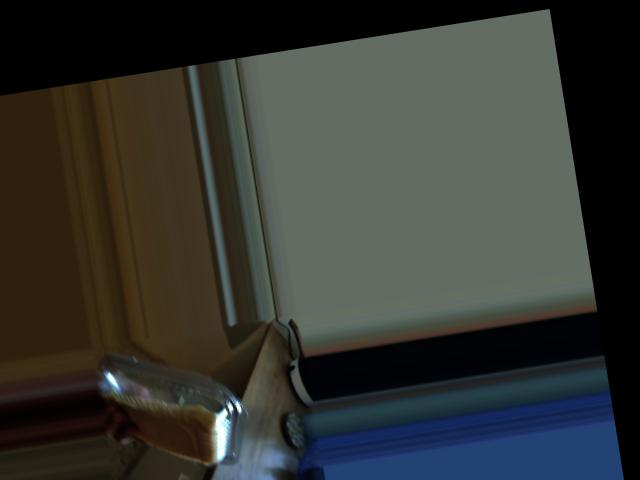cheese: (145, 357, 236, 458)
